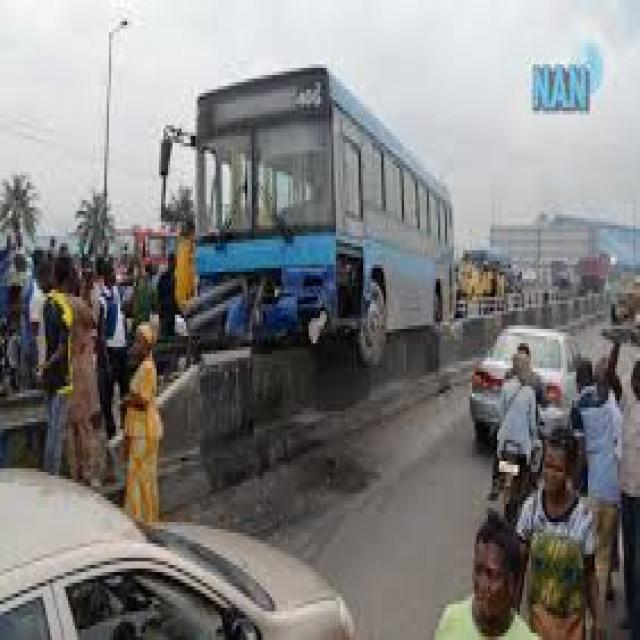accident: (122, 50, 468, 399)
